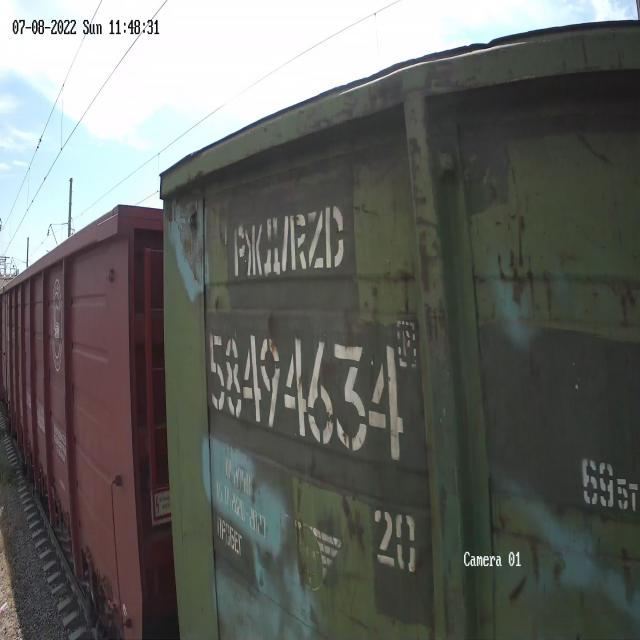gondola: (156, 11, 640, 640), (6, 199, 172, 640)
